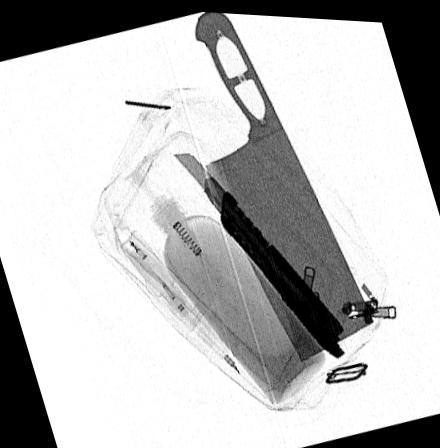Knife: (193, 10, 373, 358), (170, 149, 345, 354)
